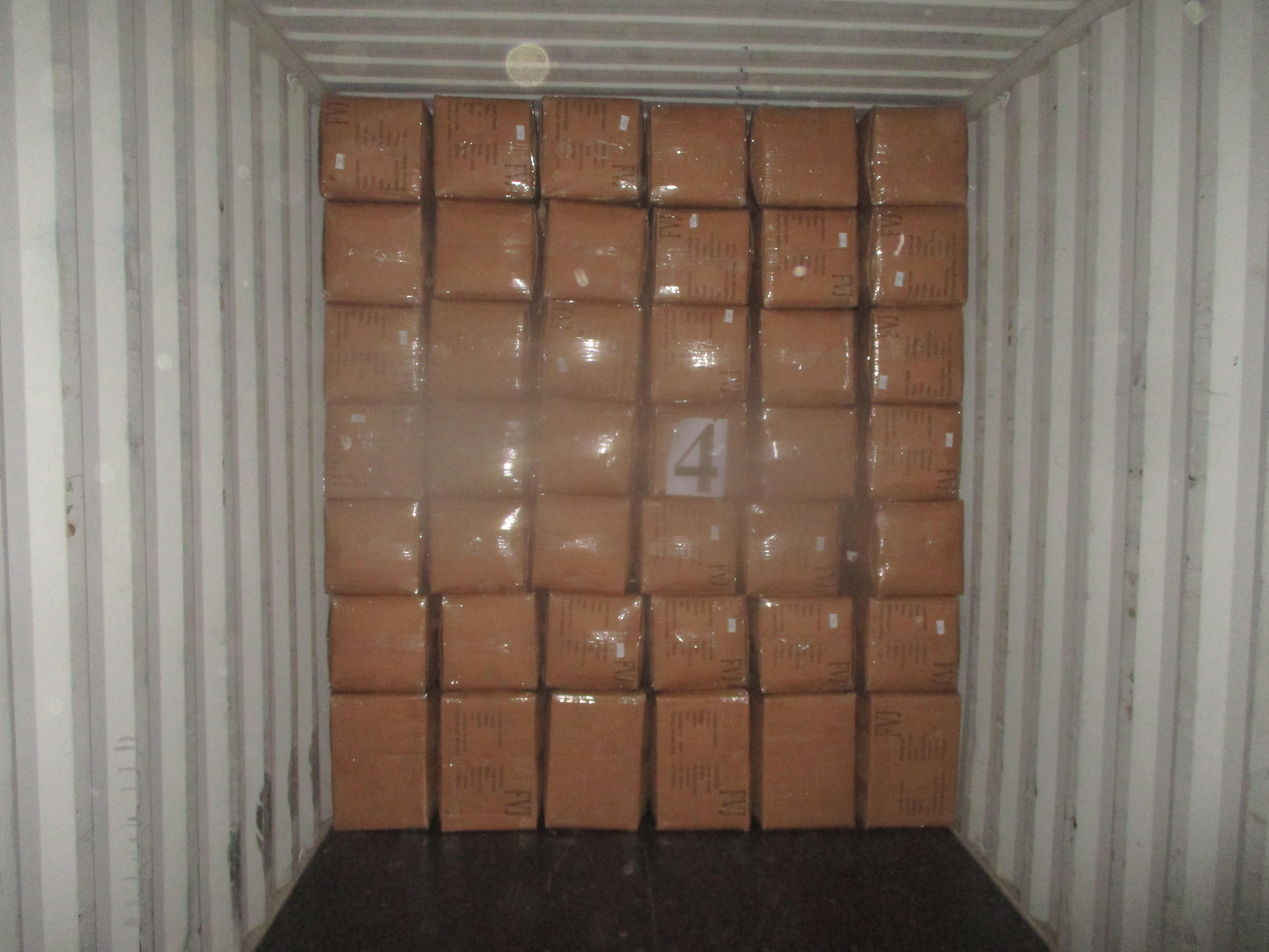carton: (544, 690, 647, 830), (855, 692, 961, 828), (329, 692, 433, 829), (440, 689, 539, 831), (753, 692, 855, 829), (654, 688, 750, 829), (319, 94, 430, 202), (841, 499, 963, 597), (538, 96, 644, 204), (424, 399, 540, 497), (749, 106, 858, 208), (859, 204, 968, 306), (535, 299, 644, 401), (858, 104, 967, 205), (744, 405, 858, 501), (433, 95, 537, 200), (542, 199, 648, 302), (323, 202, 427, 305), (426, 299, 534, 398), (647, 103, 748, 208), (433, 199, 537, 300), (426, 496, 533, 594), (323, 304, 428, 402), (749, 595, 854, 693), (757, 207, 858, 308), (531, 493, 633, 593), (740, 500, 844, 597), (649, 304, 750, 403), (862, 306, 964, 404), (646, 401, 748, 499), (323, 498, 426, 595), (534, 398, 637, 495), (328, 594, 429, 692), (543, 592, 644, 690), (324, 402, 426, 499), (646, 595, 749, 691), (650, 207, 750, 305), (639, 498, 740, 595), (440, 592, 538, 690), (862, 404, 962, 500), (759, 308, 855, 406), (863, 595, 960, 691)
